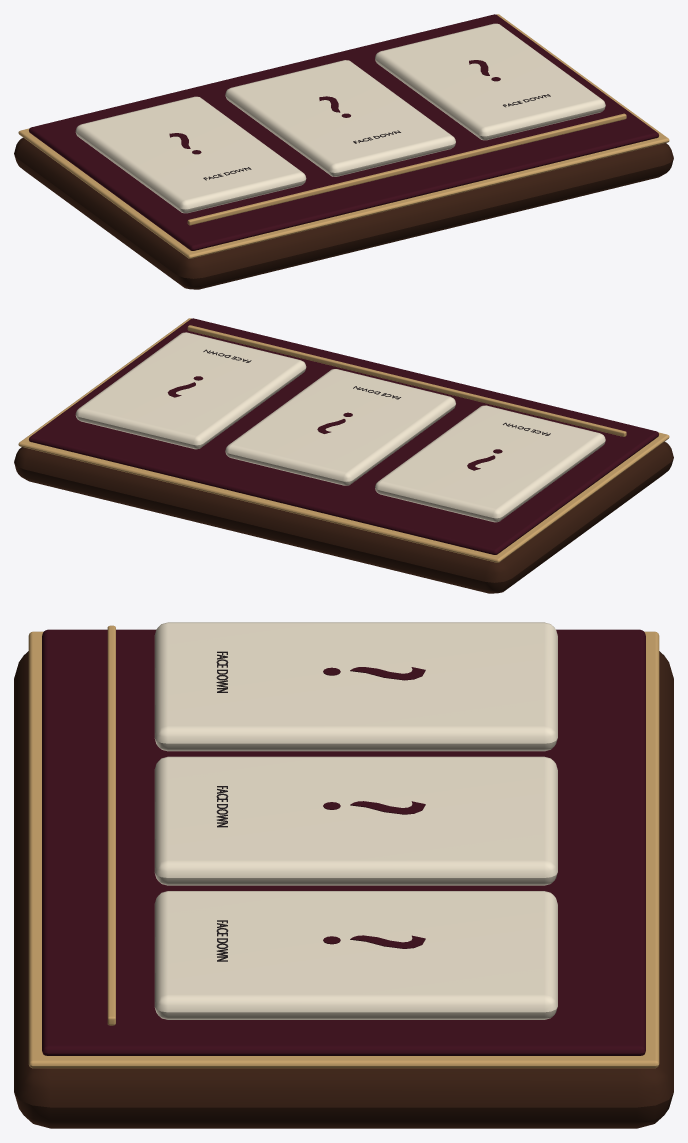
Rendered from number.glb.
3 renders of one model, top to bottom at view 1: azimuth 30°, elevation 25°; view 2: azimuth 150°, elevation 25°; view 3: azimuth 270°, elevation 25°, orthographic. The views are drawn at different scales.
Visible parts, largest first — view 1: felt_inset.003, walnut_base.003, guess_slip_2, guess_slip_0, guess_slip_1, brass_inlay.003, actual_line; view 2: felt_inset.003, walnut_base.003, guess_slip_2, guess_slip_0, guess_slip_1, brass_inlay.003, actual_line; view 3: felt_inset.003, walnut_base.003, guess_slip_1, guess_slip_0, guess_slip_2, brass_inlay.003, actual_line.
Boxes of the visible parts, box(x1,y1,x2,y2) form: felt_inset.003: box(29, 14, 658, 250); walnut_base.003: box(14, 137, 673, 289); guess_slip_2: box(375, 23, 605, 140); guess_slip_0: box(75, 96, 306, 213); guess_slip_1: box(225, 60, 455, 176); brass_inlay.003: box(18, 14, 669, 258); actual_line: box(187, 113, 626, 225); felt_inset.003: box(29, 318, 658, 554); walnut_base.003: box(14, 441, 673, 593); guess_slip_2: box(75, 332, 306, 449); guess_slip_0: box(375, 405, 605, 522); guess_slip_1: box(225, 369, 455, 485); brass_inlay.003: box(18, 318, 669, 562); actual_line: box(187, 325, 626, 436); felt_inset.003: box(42, 629, 645, 1055); walnut_base.003: box(14, 651, 673, 1128); guess_slip_1: box(154, 756, 557, 885); guess_slip_0: box(154, 622, 557, 751); guess_slip_2: box(154, 891, 557, 1019); brass_inlay.003: box(28, 631, 659, 1068); actual_line: box(107, 625, 115, 1025).
Size of the model in its own units: 4.3 by 0.5075 by 2.7.
